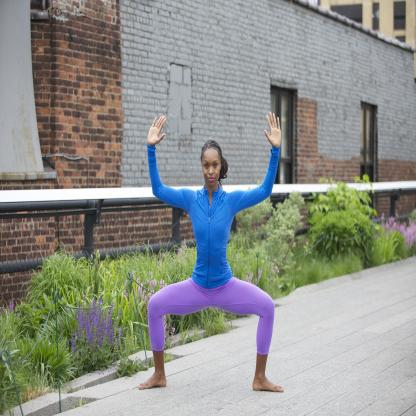godness: (132, 104, 294, 399)
